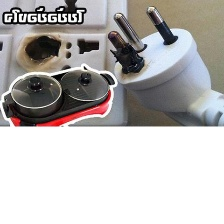three_eye_plug: (0, 0, 131, 129), (105, 3, 217, 121)
